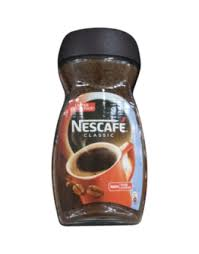nescafe-classic/gold-med: (51, 29, 149, 229)
